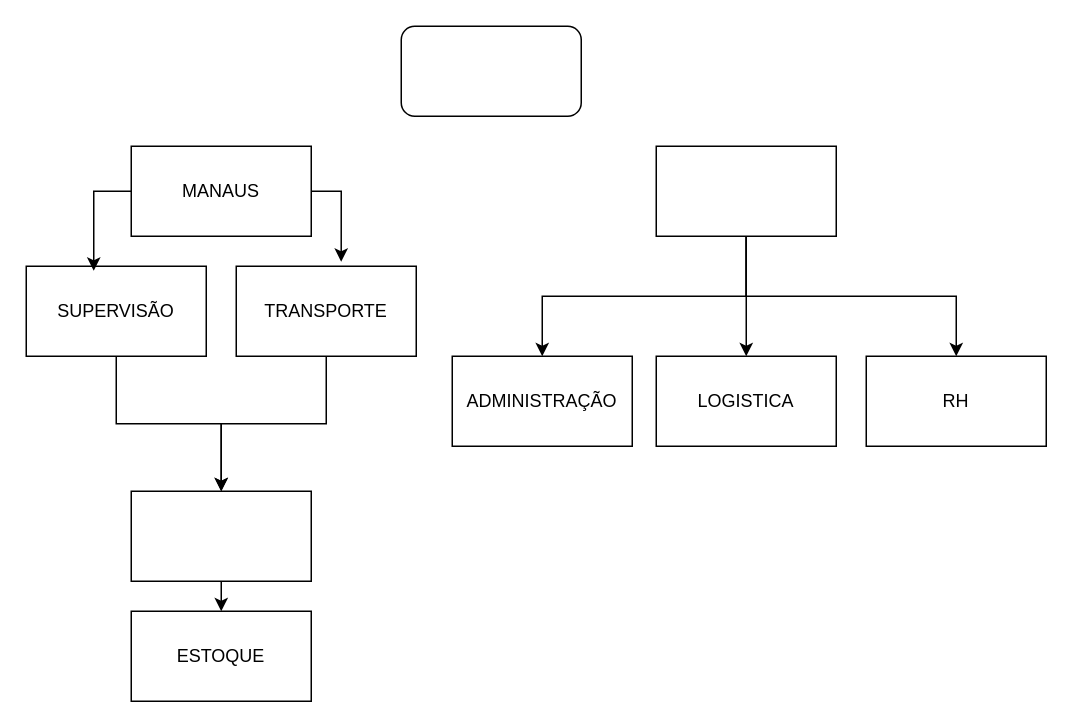
Some shapes in this 1073 by 728 pixel diagram are drawn without their labels. The centre of each missing label's shape, as x and y in pixels:
ENPACOTAMENTO: [220,535]
PRESIDENTE: [490,70]
SÃO PAULO: [745,190]
